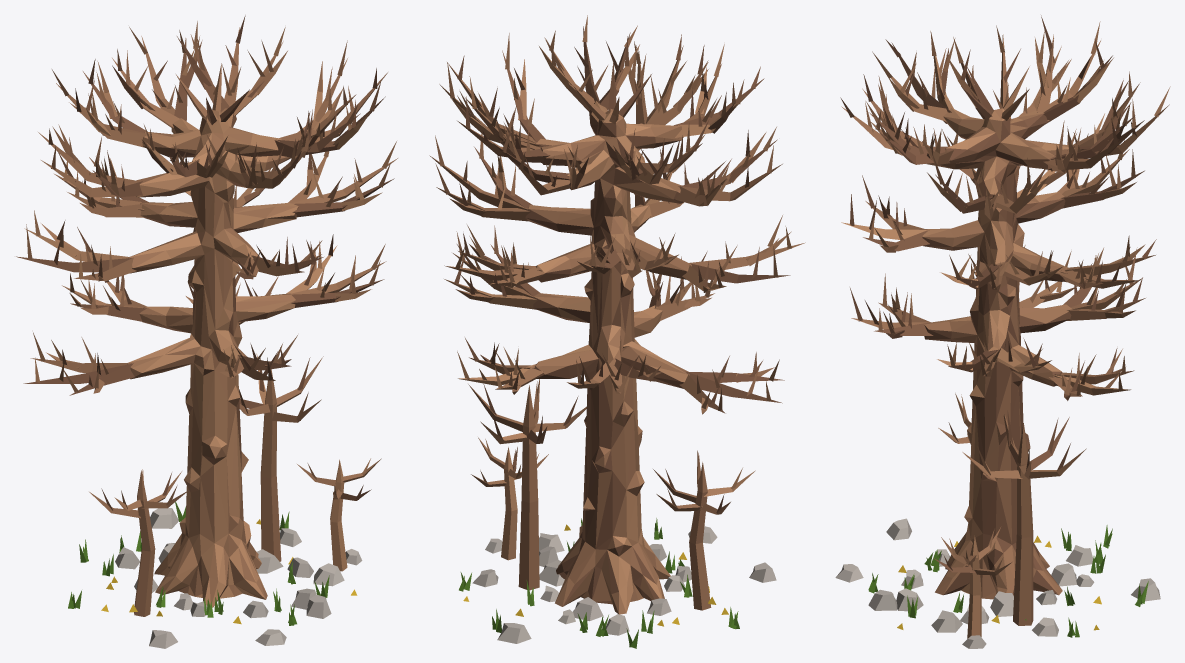
File: giant_araucaria_bare.glb
3 renders of one model, left to right at view 1: azimuth 30°, elevation 25°; view 2: azimuth 150°, elevation 25°; view 3: azimuth 270°, elevation 25°, orthographic.
Visible parts, largest first — view 1: giant_araucaria_bare; view 2: giant_araucaria_bare; view 3: giant_araucaria_bare.
Boxes of the visible parts, <box> form: giant_araucaria_bare: <box>16,15,397,648</box>; giant_araucaria_bare: <box>429,15,805,648</box>; giant_araucaria_bare: <box>835,15,1170,648</box>.
Size of the model in its own units: 26.47 by 34.99 by 20.56.
